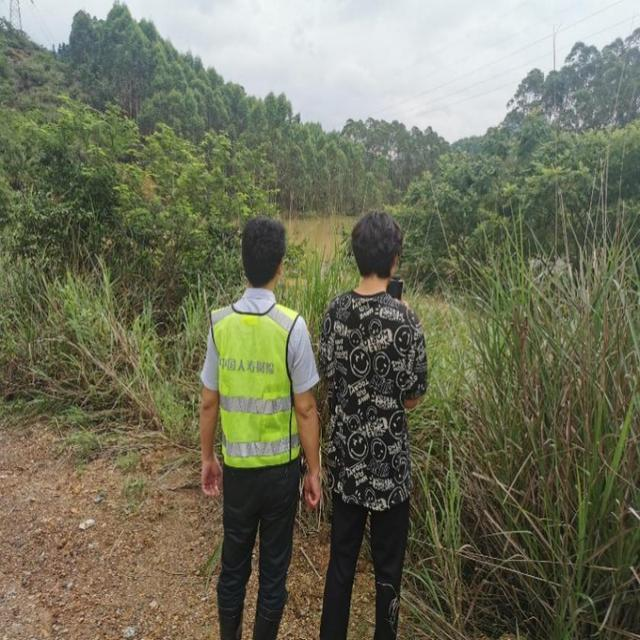Person-RiskLevel0: (317, 204, 430, 637), (193, 197, 299, 640)
